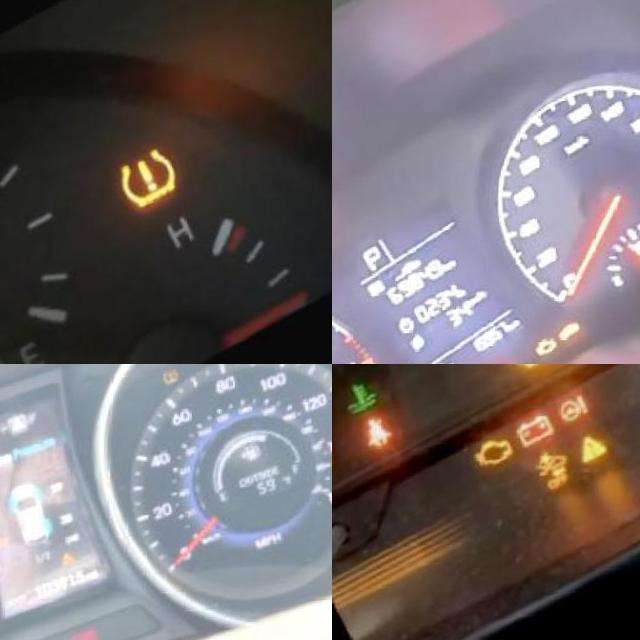High Engine Coolant Temperature: (333, 377, 378, 422)
Low fuel level: (0, 335, 39, 364)
Seat Belt: (352, 414, 390, 455)
